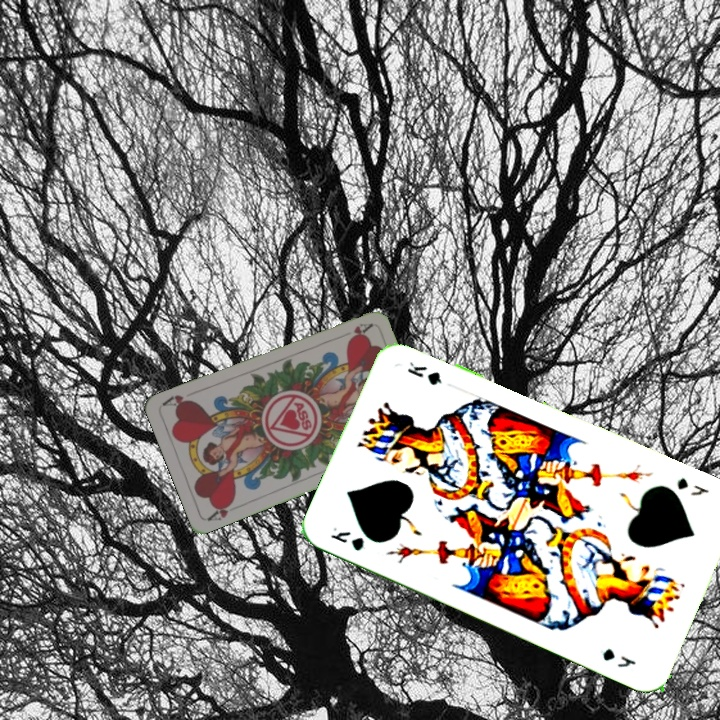GK: (327, 522, 367, 554), (673, 474, 712, 499)
HA: (203, 496, 238, 524), (334, 319, 374, 341)
